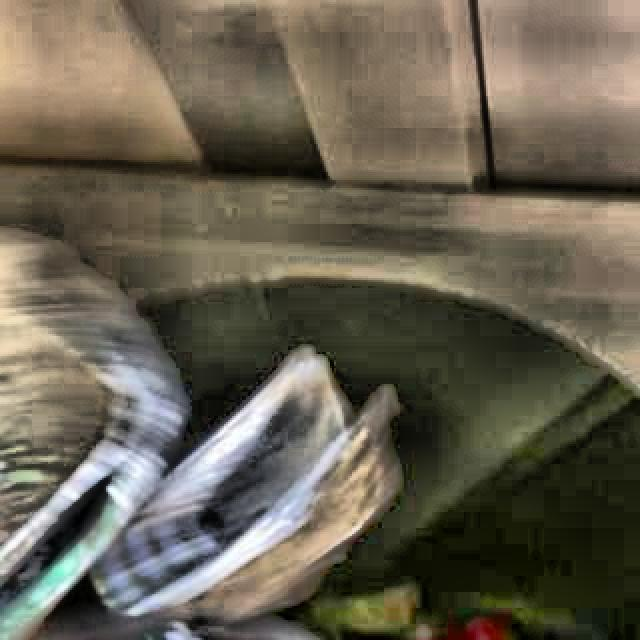plastic: (0, 230, 397, 640)
